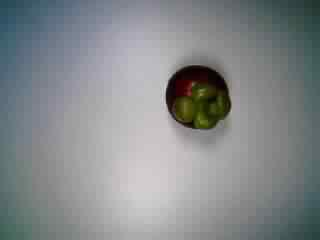mangosteen: (161, 61, 235, 131)
